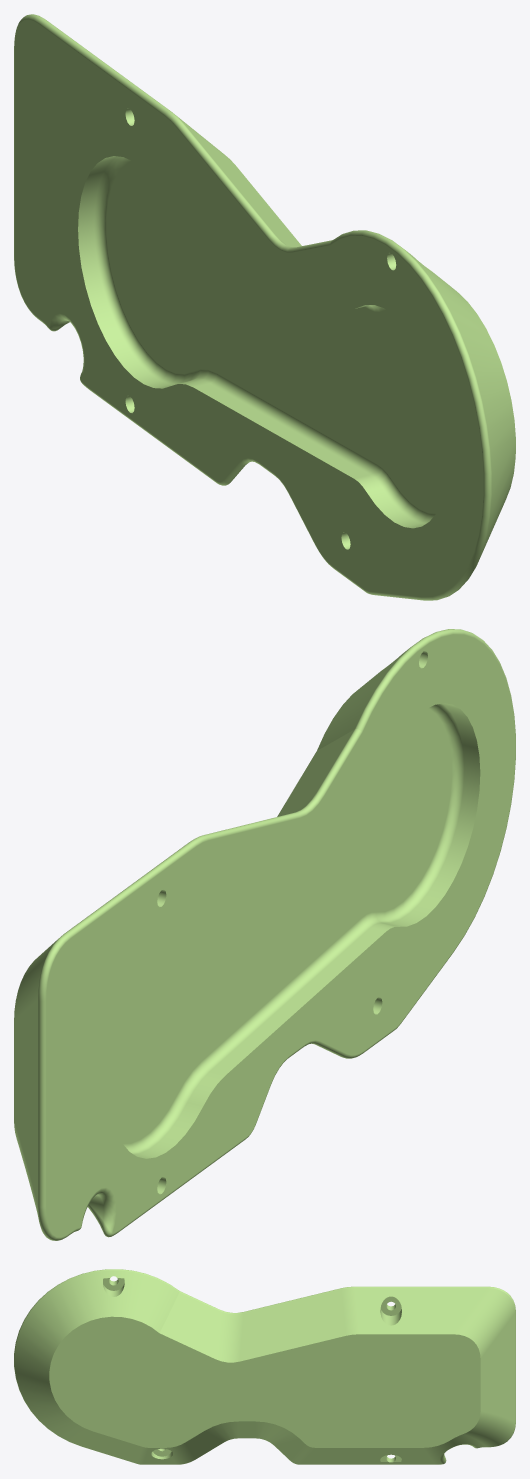
The model's file is Main_CaseOutside_2.dae.
3 views of the same model, one above another, from view 1: azimuth 30°, elevation 25°; view 2: azimuth 150°, elevation 25°; view 3: azimuth 270°, elevation 25° (orthographic). The views are drawn at different scales.
Parts seen in each view (by area): view 1: Main_CaseOutside_2; view 2: Main_CaseOutside_2; view 3: Main_CaseOutside_2.
Part boxes in pixels (x1,y1,x2,y2): Main_CaseOutside_2: (14, 14, 515, 600); Main_CaseOutside_2: (14, 629, 515, 1240); Main_CaseOutside_2: (14, 1269, 515, 1464).
Bounding box in the file's own units: 0.008 × 0.1033 × 0.0443.
